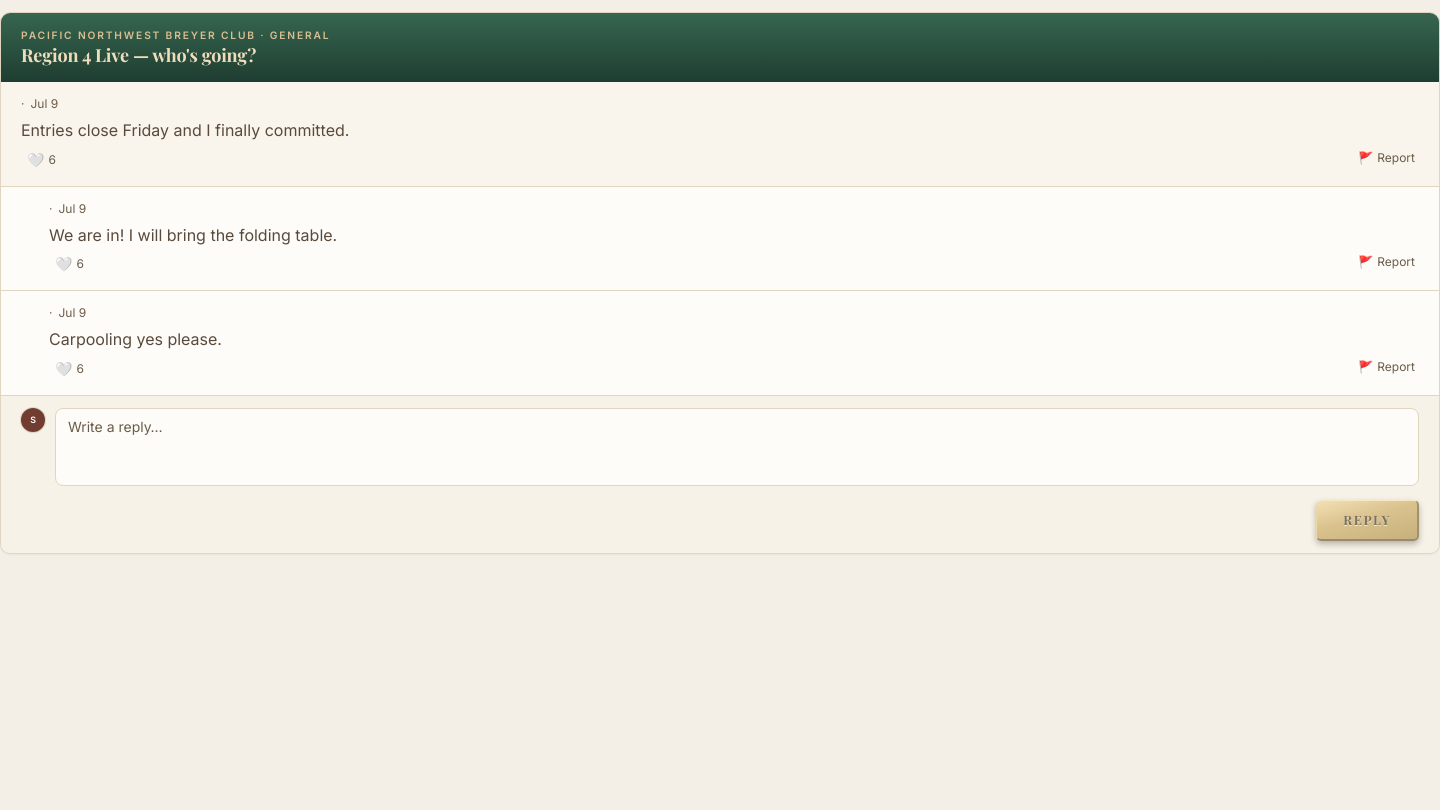
Test: ThreadView › submits a reply through replyToThread and appends it
The width and height of the screenshot is (1440, 810).
In the text box labelled "Write a reply": {"x": 737, "y": 447} [55, 408, 1419, 486], type "Can we stop at that bakery in Centralia?"
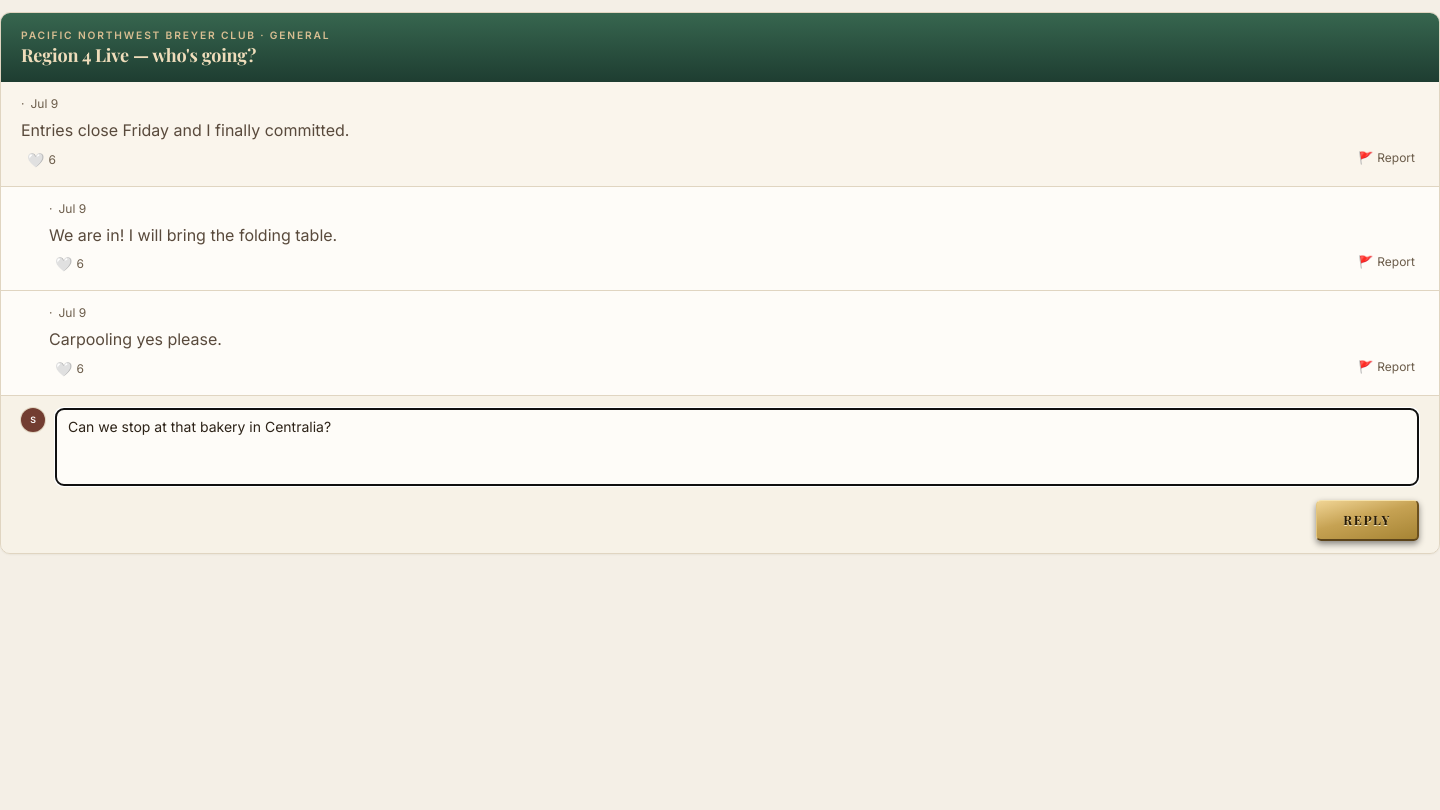
Click the button "Reply": {"x": 1368, "y": 520} [1316, 500, 1419, 541]
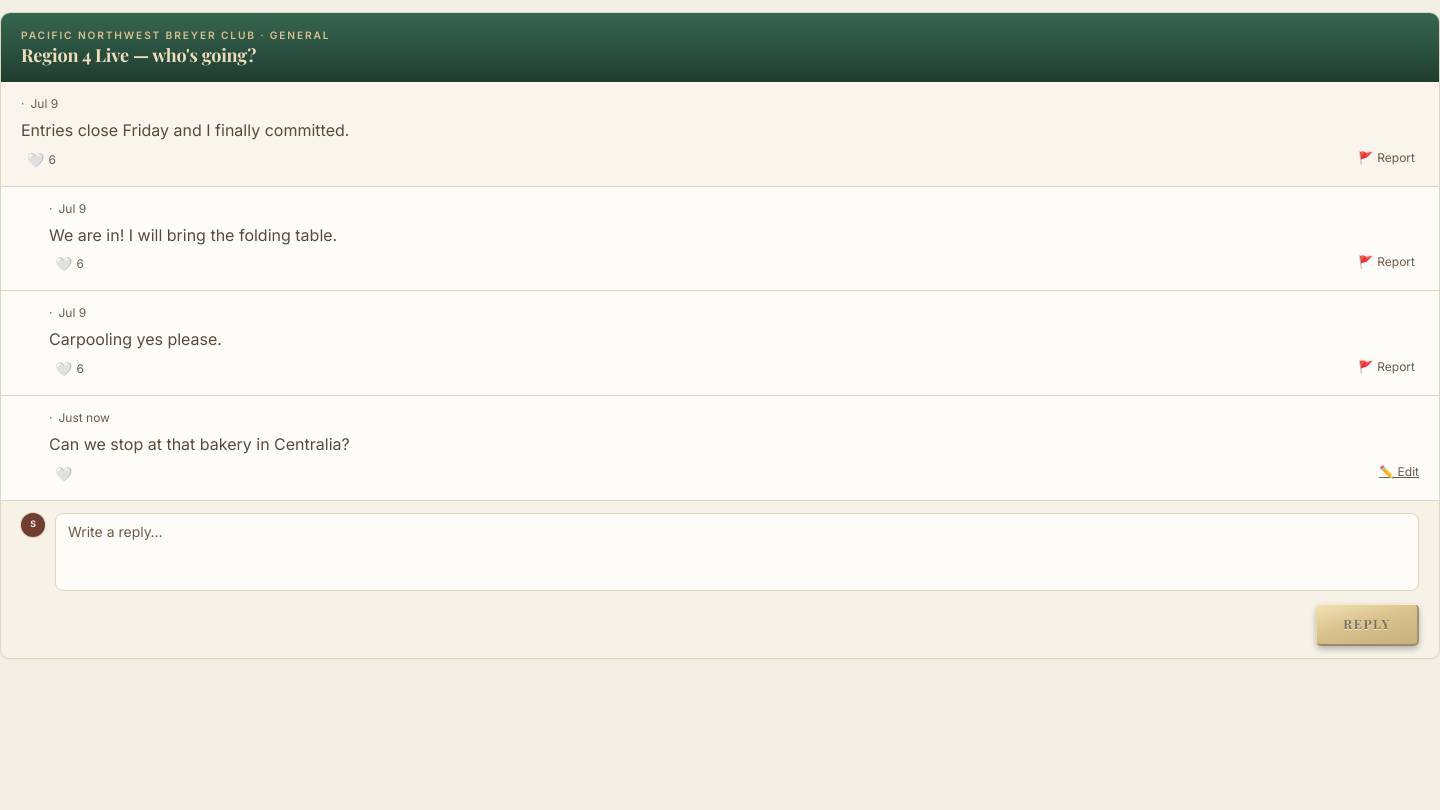
Expected: the text "Can we stop at that bakery in Centralia?" is shown, [49, 434, 350, 454]
Expected: the number of elements with test id "thread-reply" is 3, [1, 187, 1439, 291]; [1, 291, 1439, 396]; [1, 396, 1439, 500]
Expected: the text box labelled "Write a reply" is empty, [55, 512, 1419, 590]
